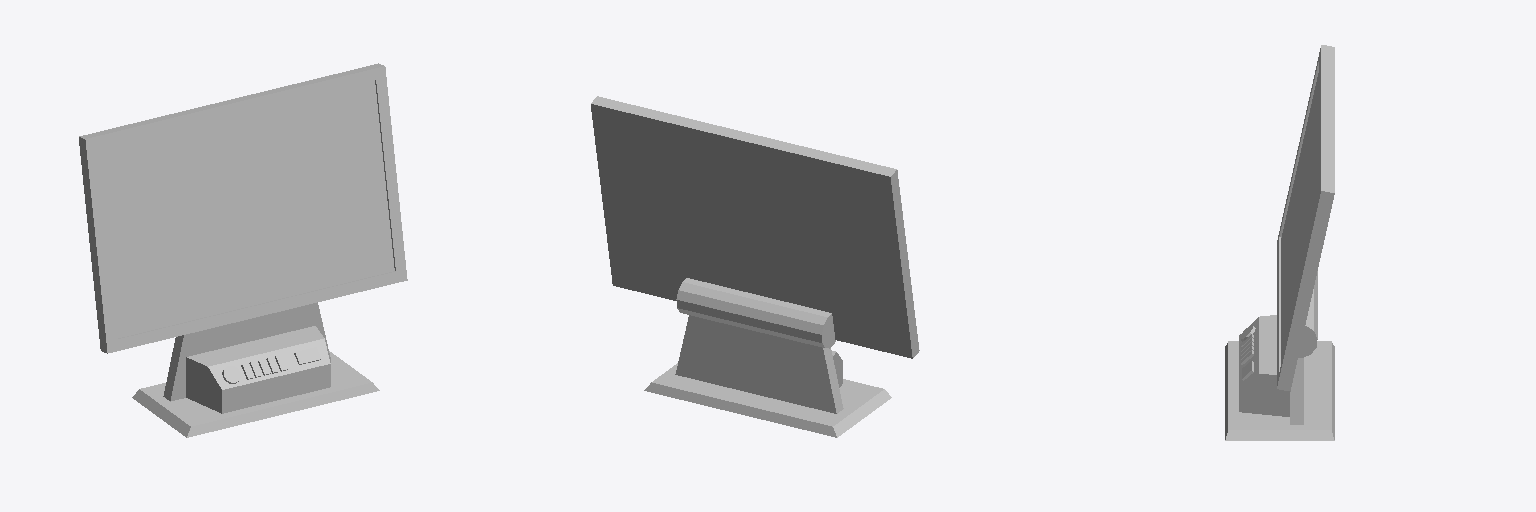
File: Large_Monitor_Blue.obj
3 renders of one model, left to right at view 1: azimuth 30°, elevation 25°; view 2: azimuth 150°, elevation 25°; view 3: azimuth 270°, elevation 25°, orthographic.
Parts seen in each view (by area): view 1: Large_Monitor_Blue; view 2: Large_Monitor_Blue; view 3: Large_Monitor_Blue.
Part boxes in pixels (x1,y1,x2,y2): Large_Monitor_Blue: (79,63,407,437); Large_Monitor_Blue: (591,96,919,437); Large_Monitor_Blue: (1225,45,1334,440).
Bounding box in the file's own units: 3.1 × 2.73 × 0.985.